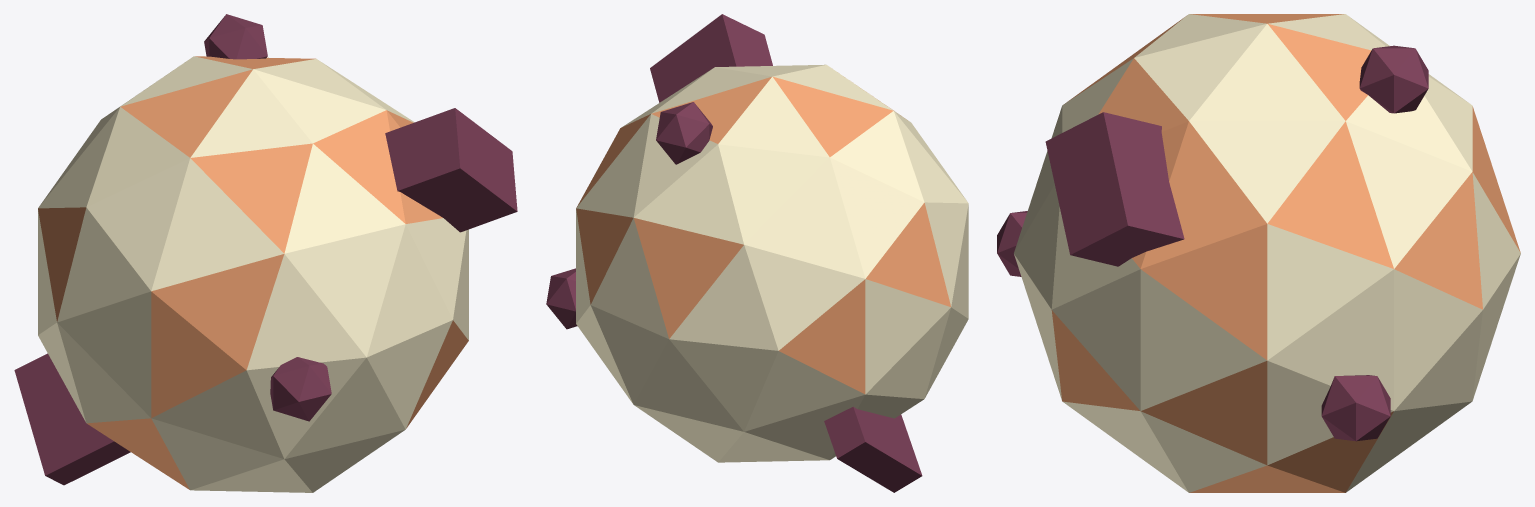
Rendered from ball.glb.
3 renders of one model, left to right at view 1: azimuth 30°, elevation 25°; view 2: azimuth 150°, elevation 25°; view 3: azimuth 270°, elevation 25°, orthographic. The views are drawn at different scales.
Visible parts, largest first — view 1: Ball, TwigA, TwigB, PebbleA, PebbleB; view 2: Ball, TwigB, TwigA, PebbleB, PebbleC; view 3: Ball, TwigA, PebbleC, PebbleB, PebbleA.
Part boxes in pixels (x1,y1,x2,y2): Ball: [38, 56, 468, 492]; TwigA: [385, 108, 517, 232]; TwigB: [14, 353, 130, 485]; PebbleA: [270, 357, 331, 421]; PebbleB: [204, 14, 267, 59]; Ball: [576, 64, 968, 462]; TwigB: [824, 406, 922, 492]; TwigA: [650, 14, 772, 102]; PebbleB: [656, 102, 712, 164]; PebbleC: [546, 268, 577, 329]; Ball: [1014, 14, 1520, 492]; TwigA: [1045, 112, 1184, 266]; PebbleC: [1321, 375, 1390, 441]; PebbleB: [1359, 45, 1428, 113]; PebbleA: [997, 211, 1027, 276].
Bounding box in the file's own units: 2.04 × 2 × 2.07.
